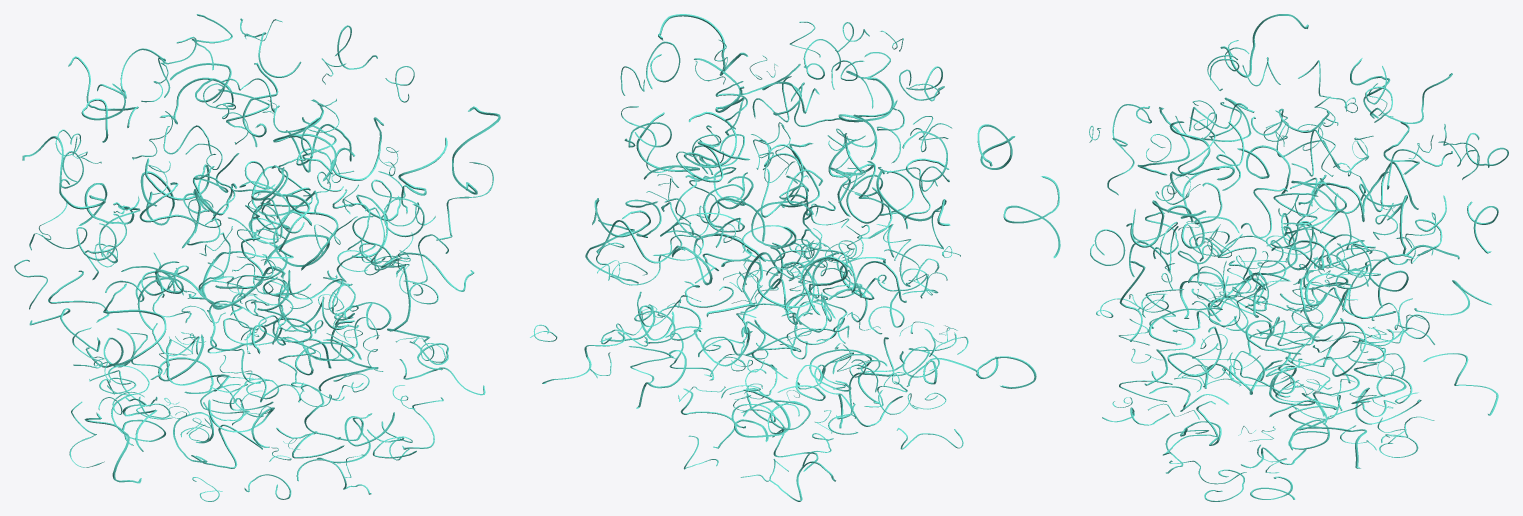
The model's file is ribbons_DRACO.glb.
3 views of the same model, side by side, from view 1: azimuth 30°, elevation 25°; view 2: azimuth 150°, elevation 25°; view 3: azimuth 270°, elevation 25° (orthographic). The views are drawn at different scales.
Parts seen in each view (by area): view 1: SPAGHETTI_1, SPAGHETTI; view 2: SPAGHETTI_1, SPAGHETTI; view 3: SPAGHETTI_1, SPAGHETTI.
Boxes of the visible parts, box(x1,y1,x2,y2) form: SPAGHETTI_1: box(14, 14, 500, 391); SPAGHETTI: box(29, 166, 485, 501); SPAGHETTI_1: box(585, 14, 1060, 419); SPAGHETTI: box(530, 167, 1036, 501); SPAGHETTI_1: box(1089, 14, 1508, 376); SPAGHETTI: box(1096, 221, 1498, 501).
Bounding box in the file's own units: 48.94 × 47.71 × 44.95.
